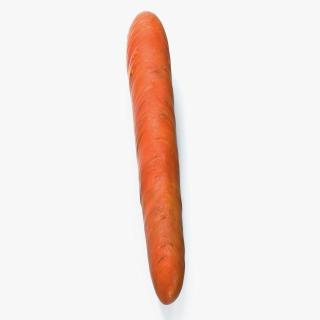carrot: (126, 10, 186, 305)
